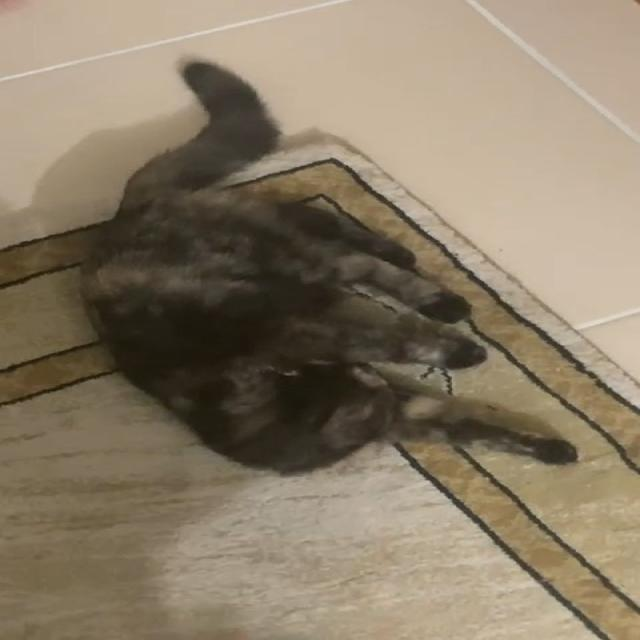authorized: (76, 54, 580, 477)
